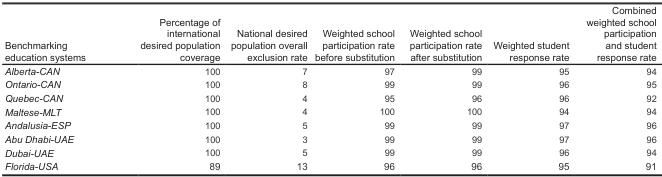table: (3, 3, 655, 170)
table column: (112, 3, 224, 170), (3, 3, 112, 170), (310, 3, 401, 170), (486, 3, 577, 170), (224, 3, 310, 170), (401, 3, 486, 170), (577, 3, 655, 170)
table column header: (3, 3, 655, 63)
table row: (3, 3, 655, 63), (3, 63, 655, 77), (3, 90, 655, 104), (3, 104, 655, 118), (3, 131, 655, 145), (3, 77, 655, 90), (3, 118, 655, 131), (3, 145, 655, 158), (3, 158, 655, 170)
